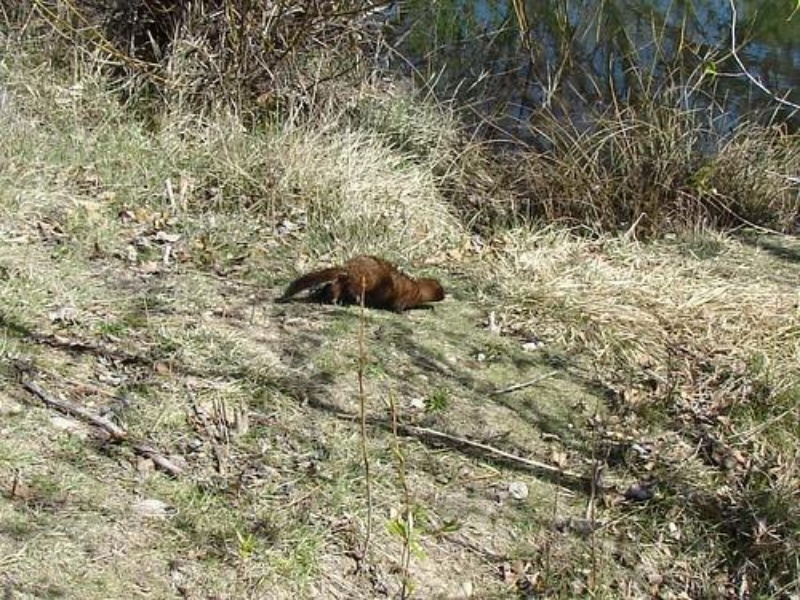minkish: (274, 250, 448, 314)
